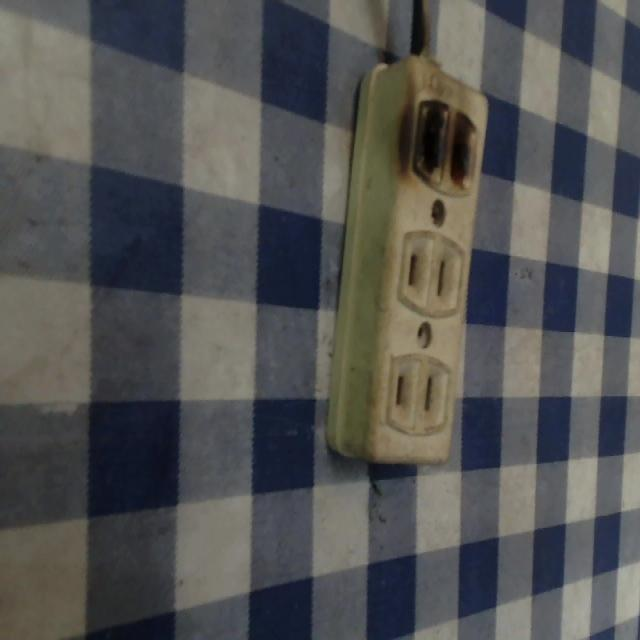-: (404, 89, 483, 192)
